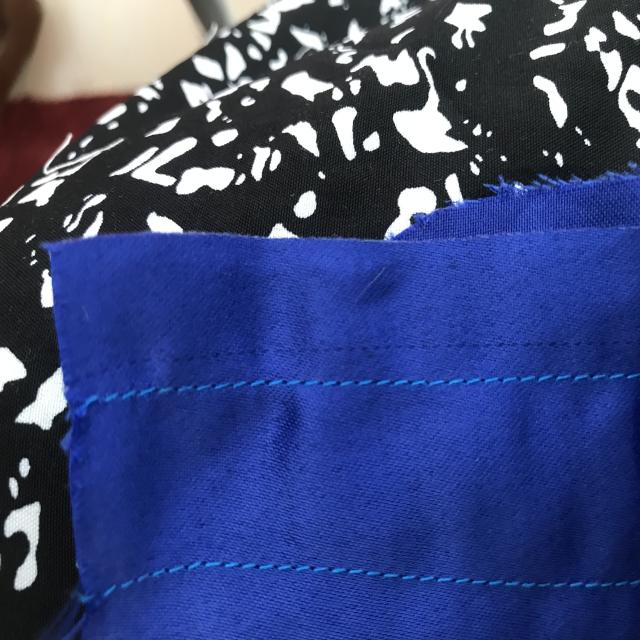good: (473, 568, 616, 608), (200, 548, 312, 590), (332, 560, 457, 594), (330, 371, 488, 394), (175, 374, 311, 398), (508, 363, 626, 386)
